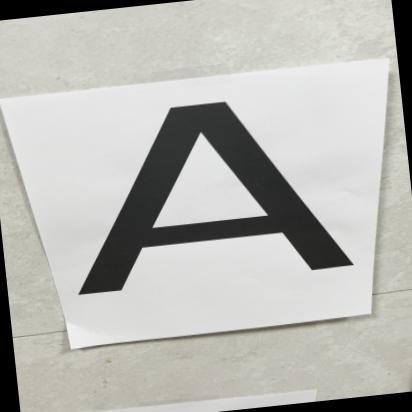seat: (39, 83, 387, 304)
